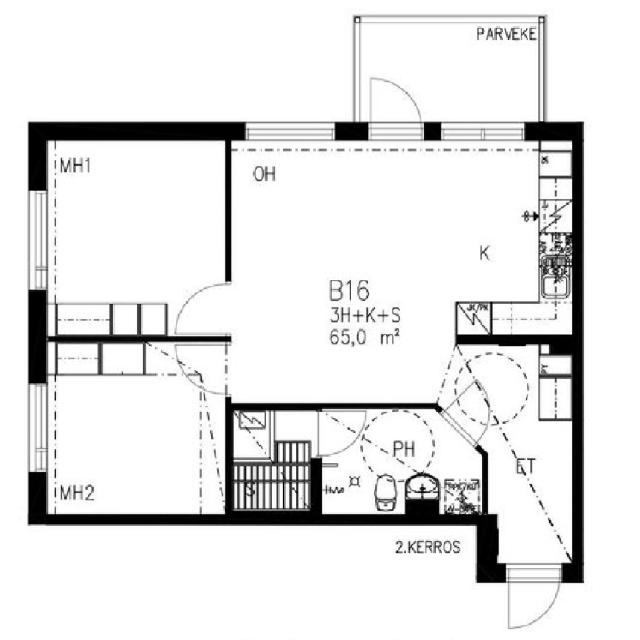door: (228, 156, 496, 395), (501, 566, 565, 632), (363, 72, 428, 136), (170, 273, 233, 333), (314, 408, 364, 460)
window: (21, 183, 56, 302), (21, 376, 55, 481), (434, 115, 530, 148), (238, 118, 342, 146)
zone: (239, 147, 540, 392), (41, 139, 230, 339), (38, 343, 225, 522), (314, 406, 482, 516), (228, 407, 273, 462)
